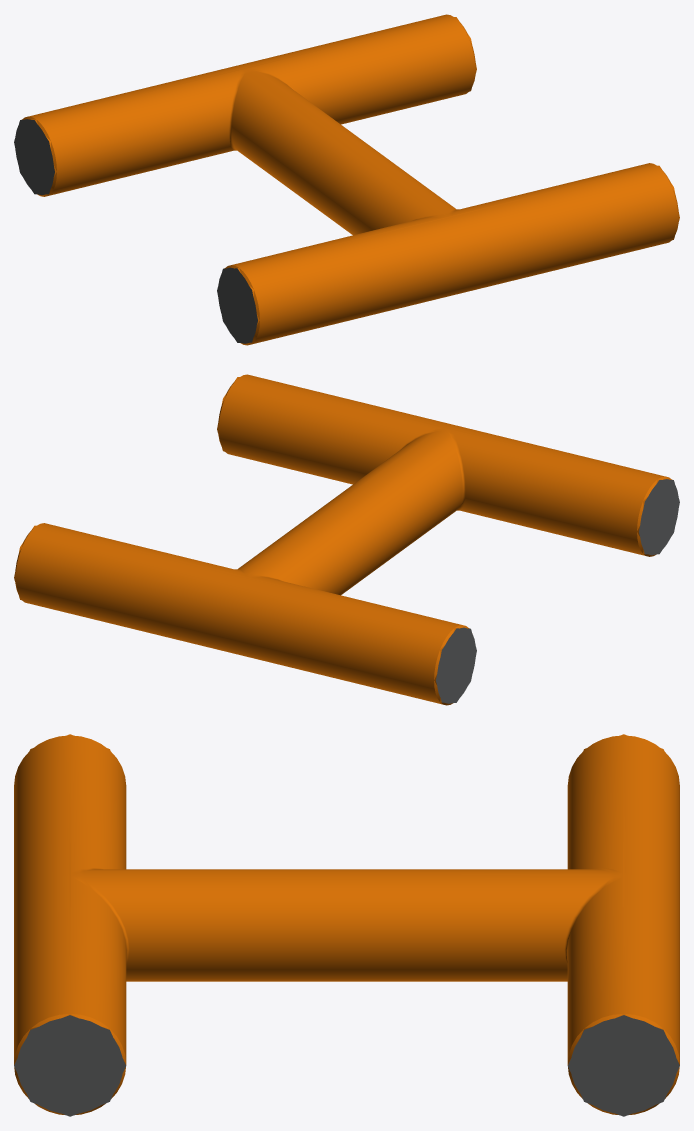
3 renders of one model, top to bottom at view 1: azimuth 30°, elevation 25°; view 2: azimuth 150°, elevation 25°; view 3: azimuth 270°, elevation 25°, orthographic. The views are drawn at different scales.
Parts seen in each view (by area): view 1: m3_LOD0, m3_col; view 2: m3_LOD0, m3_col; view 3: m3_LOD0, m3_col.
Part boxes in pixels (<box>): m3_LOD0: <box>15,14,678,345</box>; m3_col: <box>14,17,679,342</box>; m3_LOD0: <box>15,374,678,705</box>; m3_col: <box>14,377,679,702</box>; m3_LOD0: <box>14,735,679,1114</box>; m3_col: <box>14,734,679,1116</box>.
Size of what is drawn, in the model's own units: 72 by 12.21 by 72.16.
